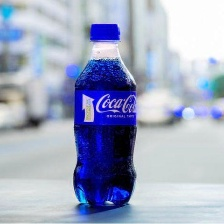bottle: (70, 19, 139, 214)
